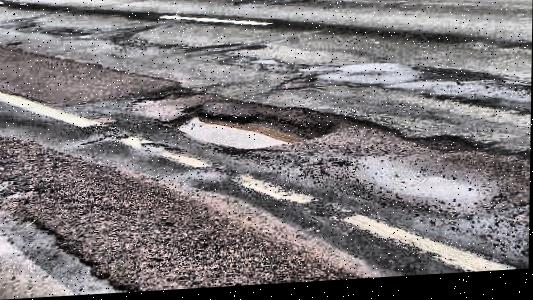pothole: (163, 97, 339, 160), (415, 137, 481, 164), (132, 95, 164, 108)
